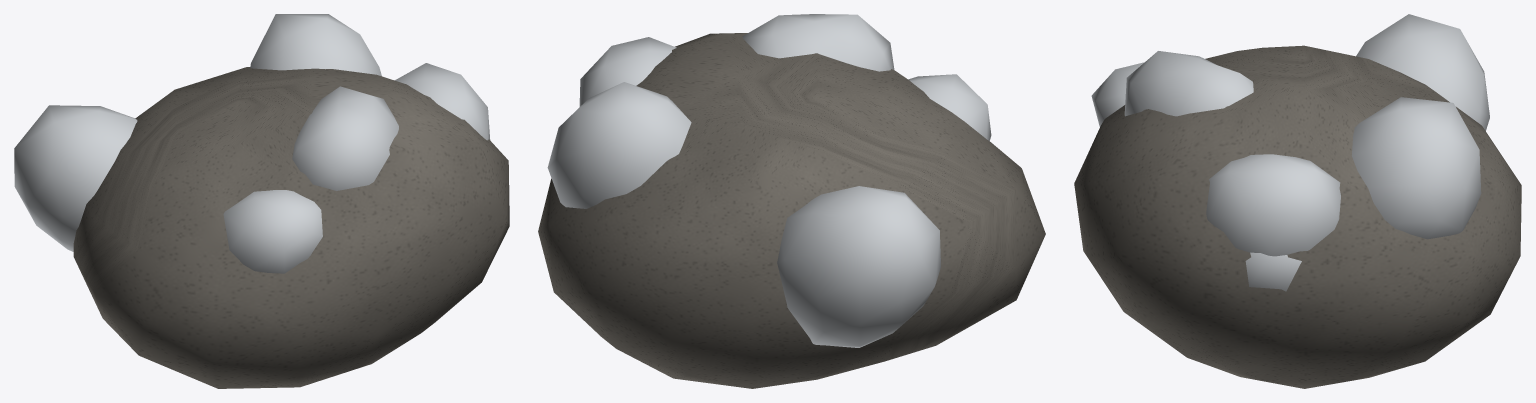
Rendered from ore_tin.glb.
The picture shows the model from 3 angles, left to right: view 1: azimuth 30°, elevation 25°; view 2: azimuth 150°, elevation 25°; view 3: azimuth 270°, elevation 25°; orthographic projection. The views are drawn at different scales.
Parts seen in each view (by area): view 1: ore_tin; view 2: ore_tin; view 3: ore_tin.
Part boxes in pixels (box(x1,y1,x2,y2)): ore_tin: box(14, 14, 509, 388); ore_tin: box(538, 14, 1045, 388); ore_tin: box(1074, 14, 1521, 388).
Bounding box in the file's own units: 0.1812 × 0.1251 × 0.1679.
2 materials, 1 textured.
